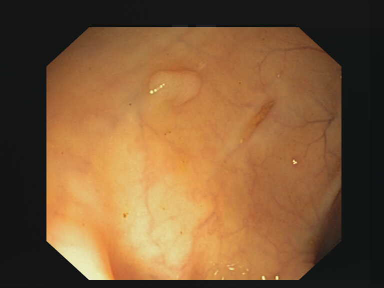polyp: (135, 54, 238, 116)
